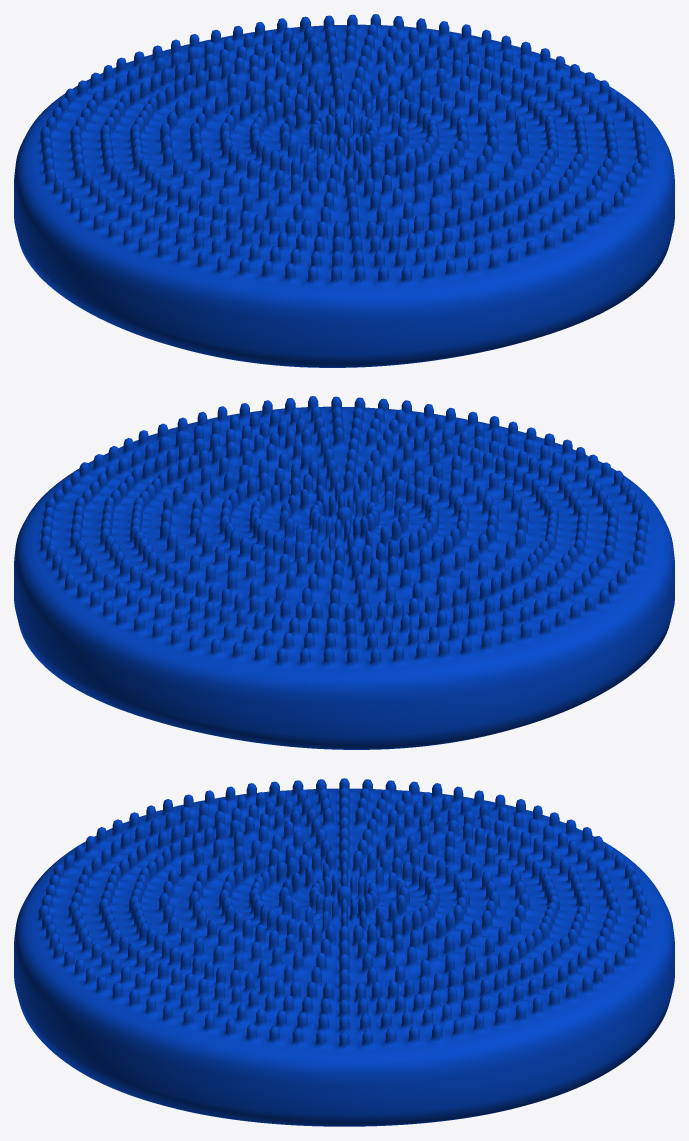
The model's file is balance_disc_blue_u-_powex.glb.
3 renders of one model, top to bottom at view 1: azimuth 30°, elevation 25°; view 2: azimuth 150°, elevation 25°; view 3: azimuth 270°, elevation 25°, orthographic.
Visible parts, largest first — view 1: Object_2; view 2: Object_2; view 3: Object_2.
Boxes of the visible parts, x1,y1,x2,y2 form: Object_2: (14, 14, 674, 367); Object_2: (14, 396, 674, 749); Object_2: (14, 778, 674, 1126).
Bounding box in the file's own units: 350 × 70.69 × 350.
